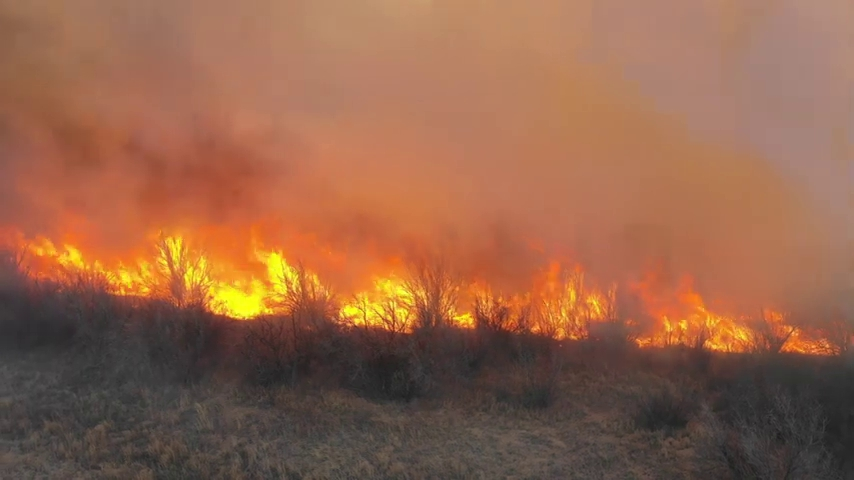forest_fire: (4, 230, 843, 353)
